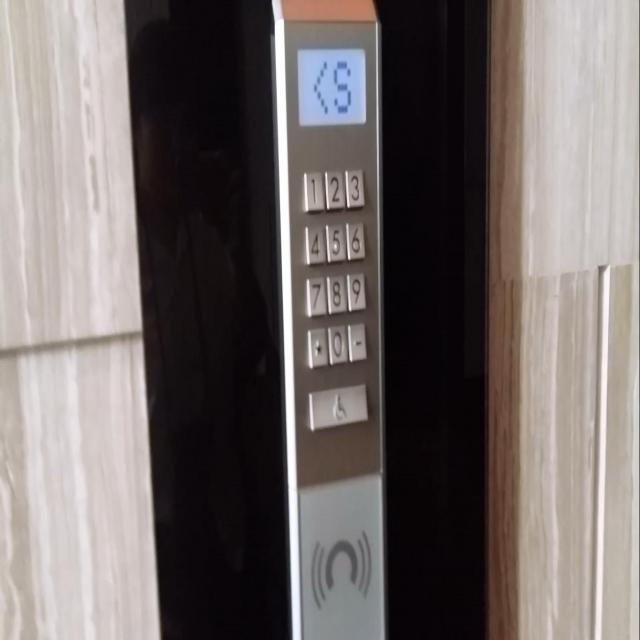-: (347, 320, 368, 363)
0: (328, 322, 349, 366)
1: (302, 169, 325, 213)
2: (324, 167, 346, 211)
3: (344, 167, 366, 208)
4: (303, 223, 326, 266)
5: (325, 222, 347, 264)
6: (345, 219, 366, 262)
7: (305, 274, 327, 317)
8: (326, 272, 348, 314)
9: (346, 269, 367, 313)
CH: (308, 384, 369, 428)
led: (295, 44, 368, 128)
s: (306, 325, 328, 368)
